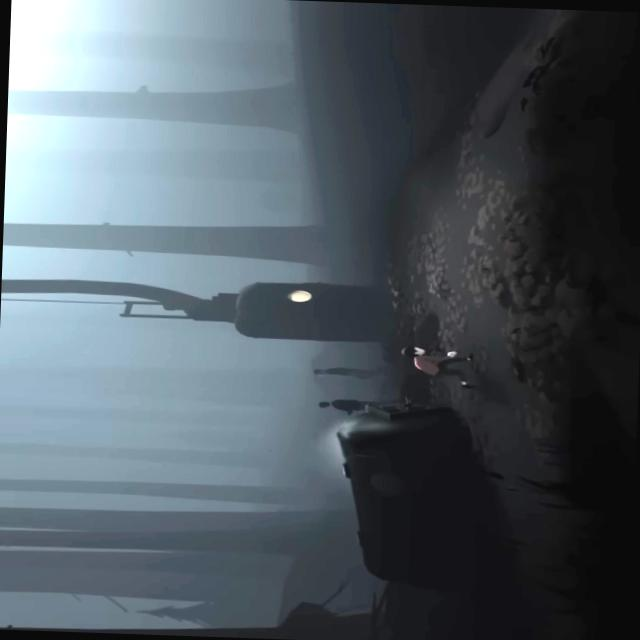boy: (401, 346, 472, 384)
